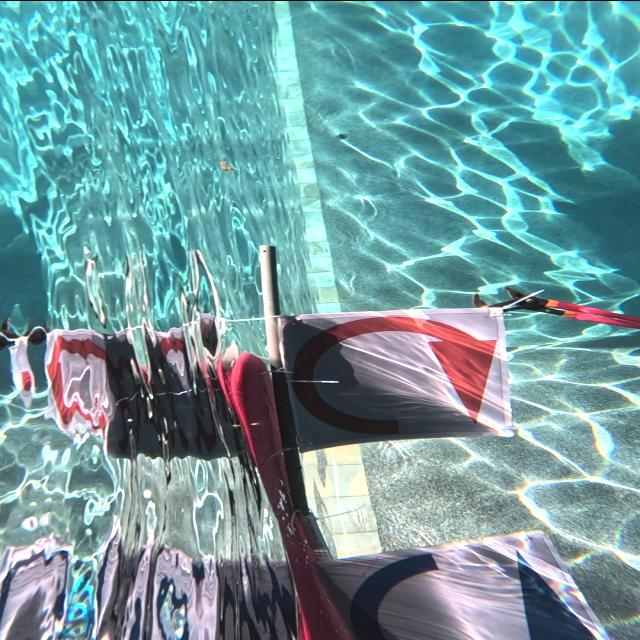blue_side: (336, 542, 607, 640)
red_side: (295, 314, 499, 451)
